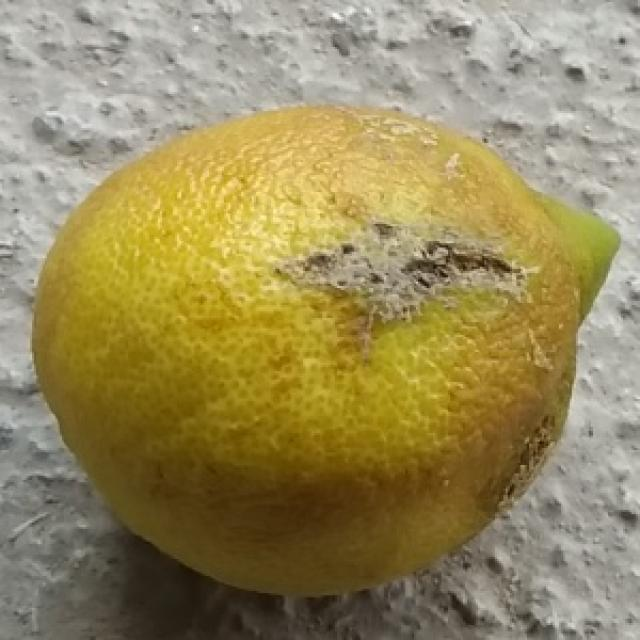overripe: (25, 94, 626, 599)
